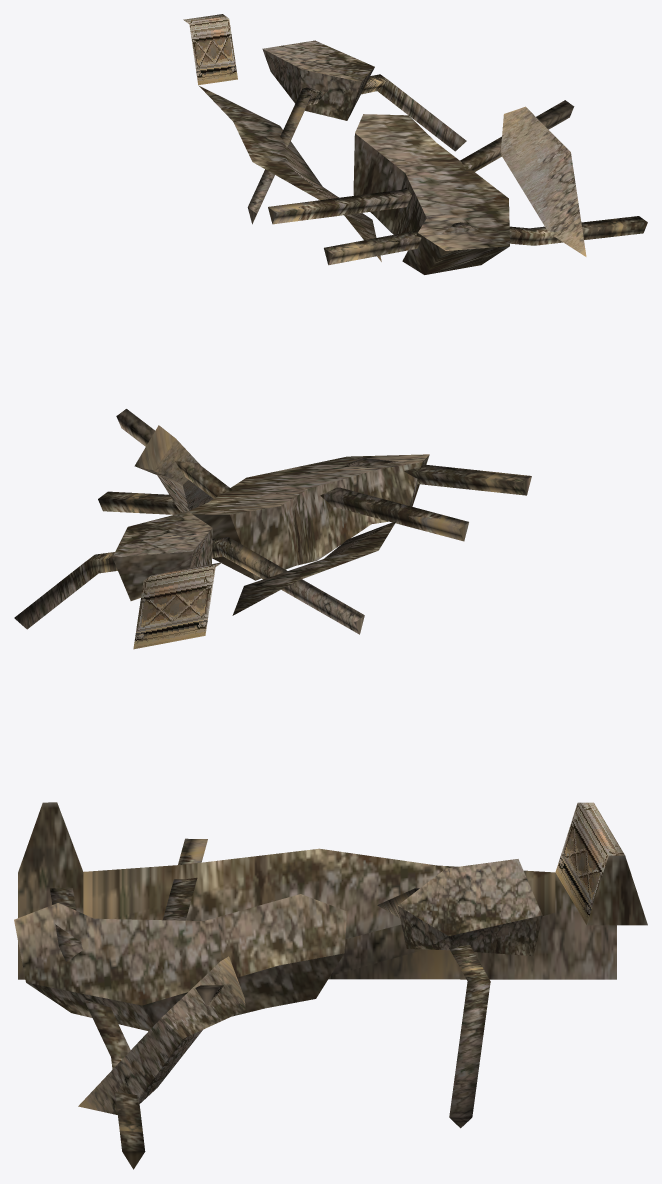
The model's file is M5_DestroyedBridge01.glb.
3 views of the same model, one above another, from view 1: azimuth 30°, elevation 25°; view 2: azimuth 150°, elevation 25°; view 3: azimuth 270°, elevation 25° (orthographic). The views are drawn at different scales.
Visible parts, largest first — view 1: M5_DESTROYEDBRIDGE01; view 2: M5_DESTROYEDBRIDGE01; view 3: M5_DESTROYEDBRIDGE01.
Boxes of the visible parts, bbox=[...] form: M5_DESTROYEDBRIDGE01: bbox=[183, 14, 647, 274]; M5_DESTROYEDBRIDGE01: bbox=[14, 409, 531, 649]; M5_DESTROYEDBRIDGE01: bbox=[14, 802, 647, 1169].
Bounding box in the file's own units: 11.03 × 3.59 × 10.72.
3 materials, 3 textured.
